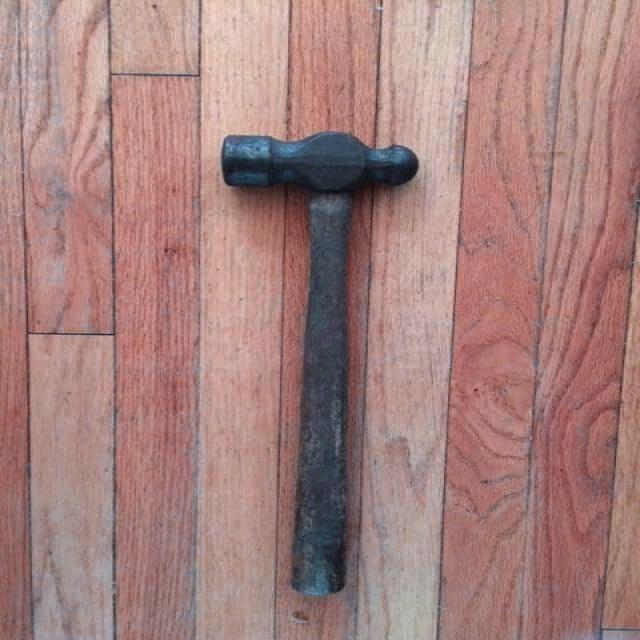hammer: (209, 125, 423, 606)
